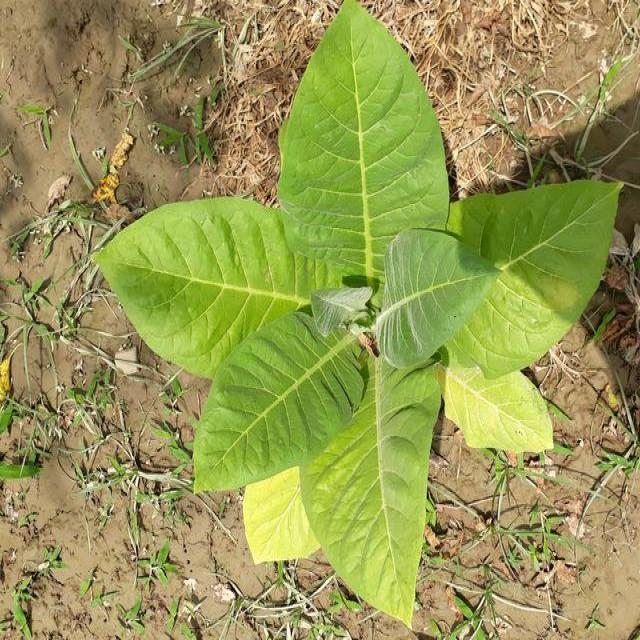crop: (107, 24, 618, 603)
